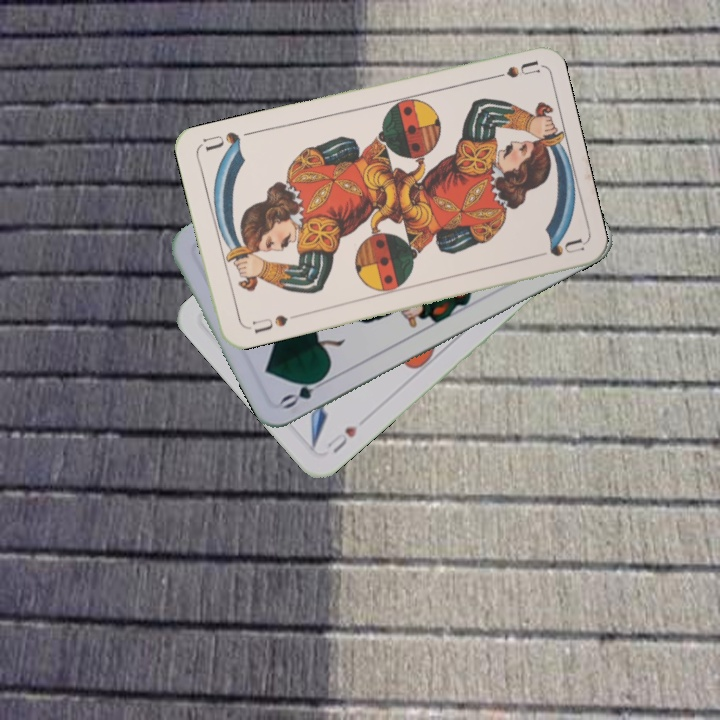GO: (277, 370, 332, 412)
HU: (322, 422, 360, 456)
SU: (242, 310, 301, 336), (481, 57, 540, 83)
